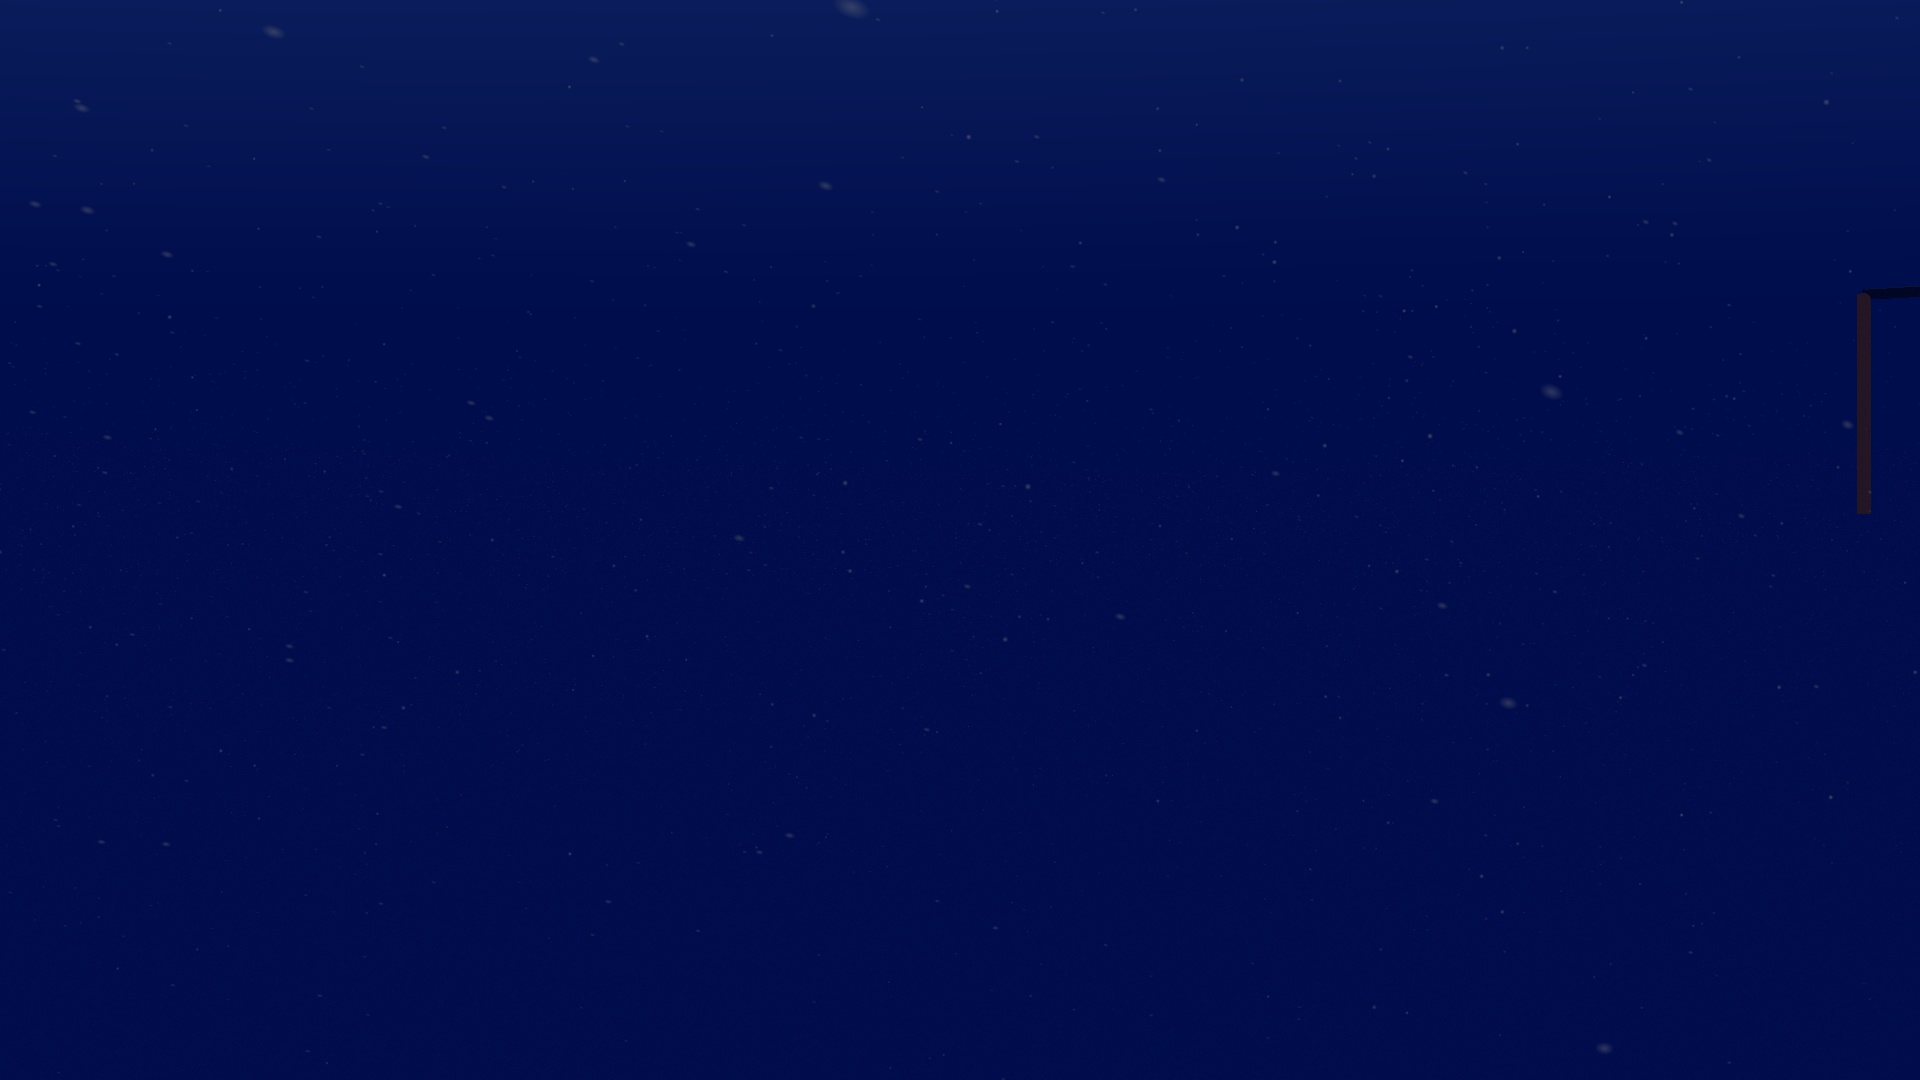Gate: (1853, 284, 1920, 527)
